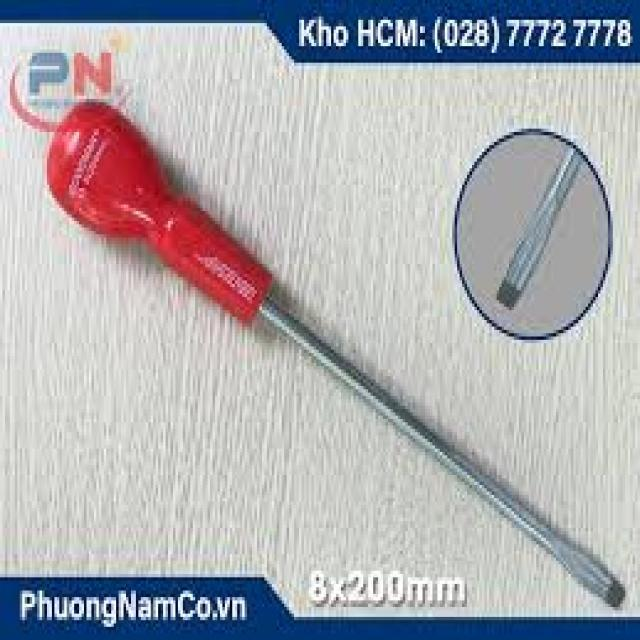screwdriver: (42, 97, 628, 612)
